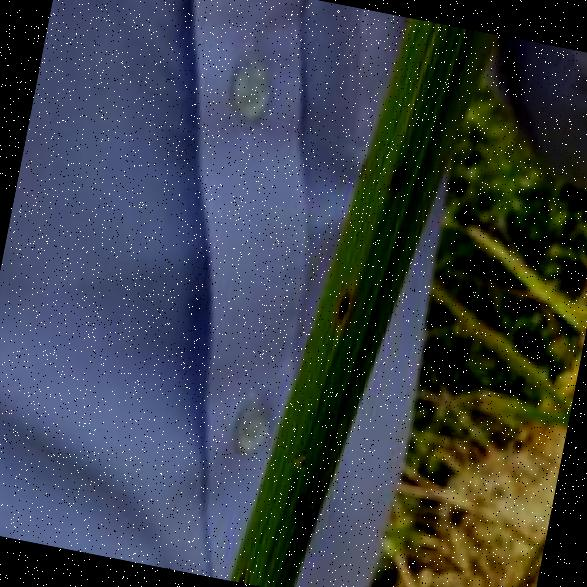Brown_Spot: (284, 476, 322, 544), (322, 269, 358, 333), (377, 146, 417, 201)
